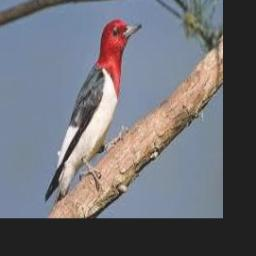Woodpecker: (44, 18, 142, 210)
